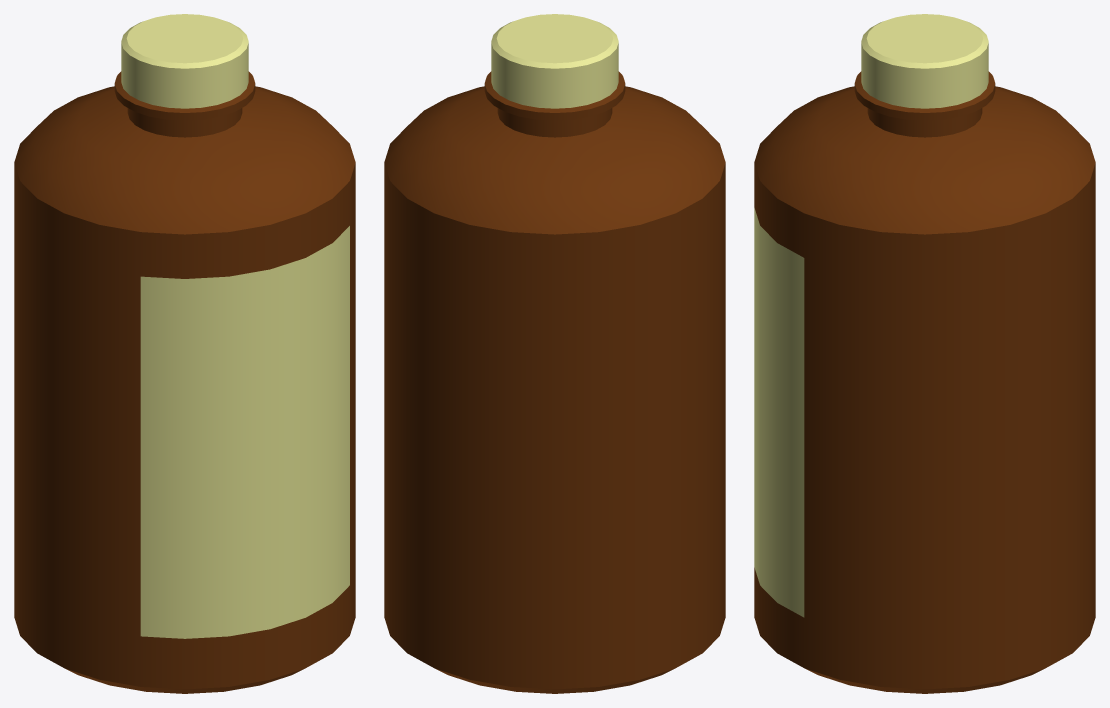
The model's file is bottle.fbx.
3 views of the same model, side by side, from view 1: azimuth 30°, elevation 25°; view 2: azimuth 150°, elevation 25°; view 3: azimuth 270°, elevation 25° (orthographic).
Visible parts, largest first — view 1: Bottle; view 2: Bottle; view 3: Bottle.
Boxes of the visible parts, x1,y1,x2,y2 form: Bottle: (14,14,355,693); Bottle: (384,14,725,693); Bottle: (754,14,1095,693).
Bounding box in the file's own units: 8.79 × 8.79 × 16.8.
